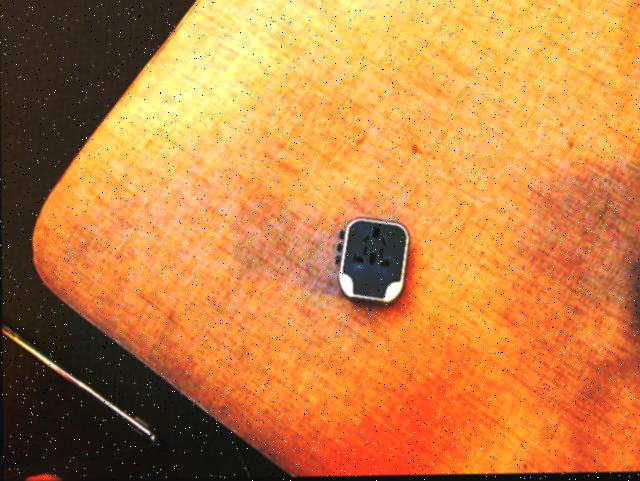adapter: (333, 218, 408, 306)
